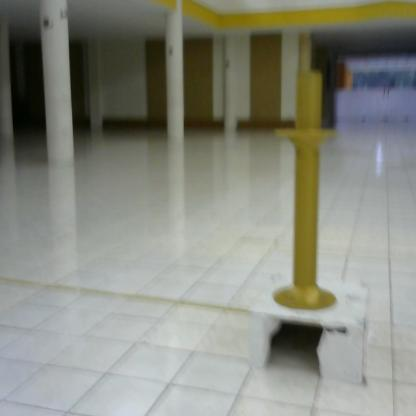pole: (269, 63, 340, 318)
